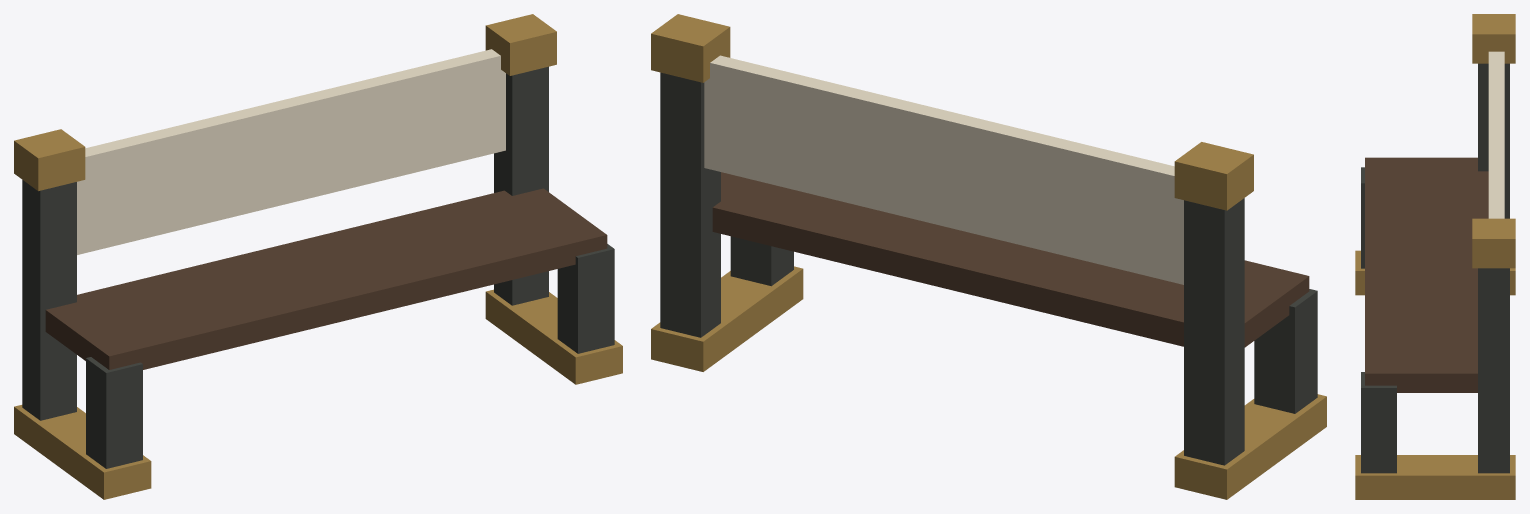
Rendered from bench.glb.
The picture shows the model from 3 angles, left to right: view 1: azimuth 30°, elevation 25°; view 2: azimuth 150°, elevation 25°; view 3: azimuth 270°, elevation 25°; orthographic projection. The views are drawn at different scales.
Visible parts, largest first — view 1: bench; view 2: bench; view 3: bench.
Part boxes in pixels (x1,y1,x2,y2): bench: (14, 14, 622, 499); bench: (651, 14, 1326, 499); bench: (1355, 14, 1515, 499).
Bounding box in the file's own units: 1.98 × 1.07 × 0.595.
